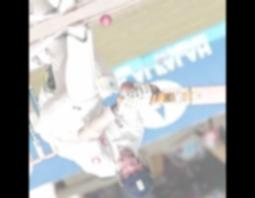batsman: (28, 0, 198, 193)
